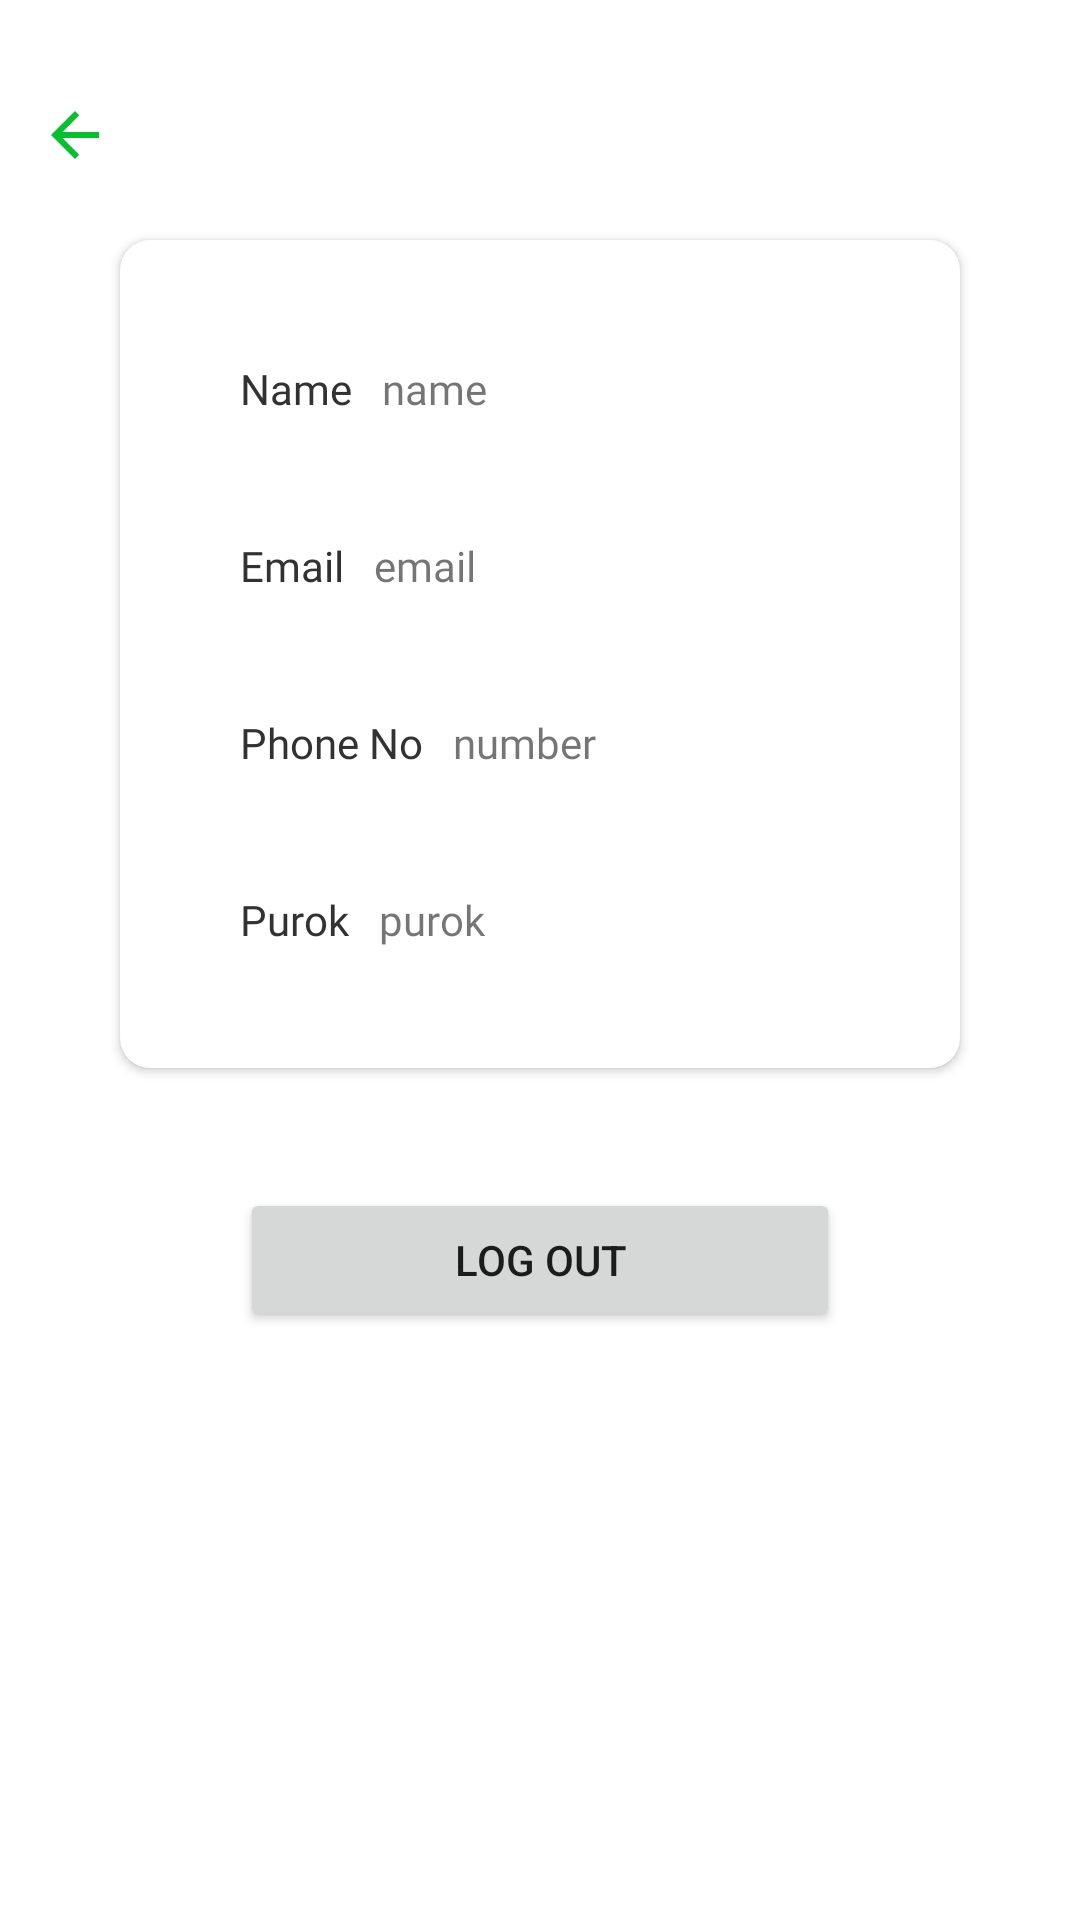

Icon bounding boxes for this 1080px x 1920px phone screenshot, format [x1,y1,x2,y2]:
chat bot back: [51,111,99,159]
